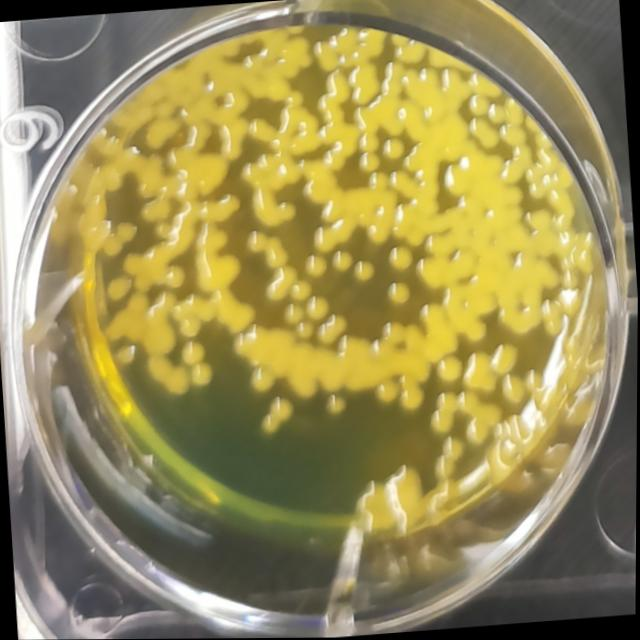other: (304, 170, 397, 254), (241, 28, 316, 111), (120, 220, 200, 296), (351, 460, 429, 535), (440, 145, 520, 213), (99, 290, 177, 358), (191, 224, 245, 292), (459, 340, 521, 397), (253, 394, 300, 438), (145, 353, 190, 398), (428, 435, 467, 479), (310, 309, 351, 349), (383, 242, 417, 274), (433, 352, 465, 384), (243, 364, 276, 395), (383, 279, 413, 311), (178, 337, 211, 365), (371, 379, 401, 409), (348, 257, 379, 286), (318, 392, 350, 420), (461, 419, 490, 449), (426, 407, 455, 436), (301, 251, 331, 279), (243, 227, 271, 255), (328, 247, 356, 274), (303, 295, 332, 321), (277, 302, 303, 327), (434, 392, 458, 416)
